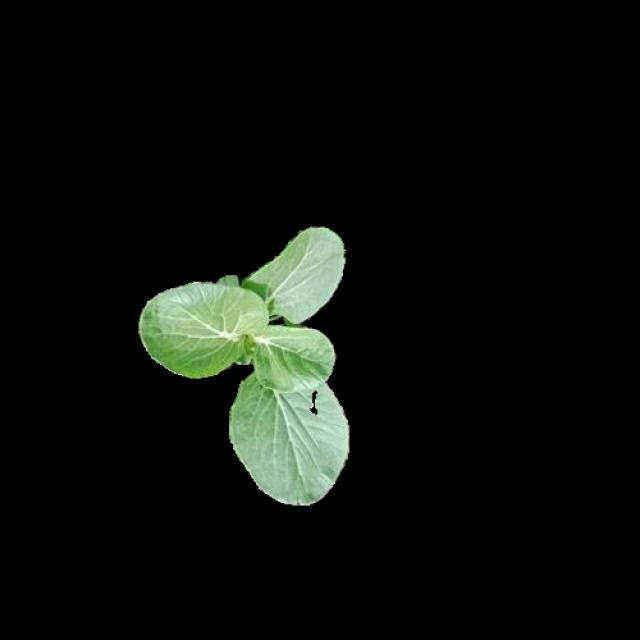not-mature: (140, 227, 348, 503)
unhealthy: (228, 374, 351, 504)
